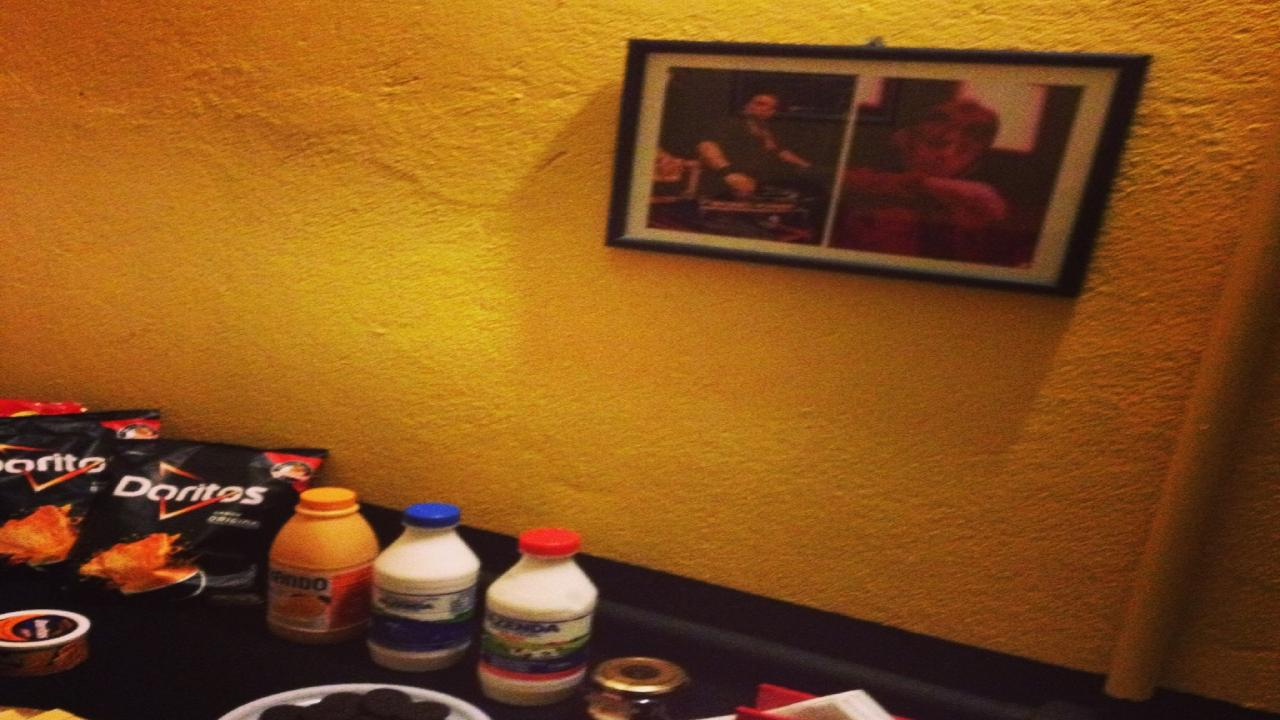bottle_cap: (521, 528, 584, 558), (404, 500, 464, 526), (300, 485, 355, 512)
